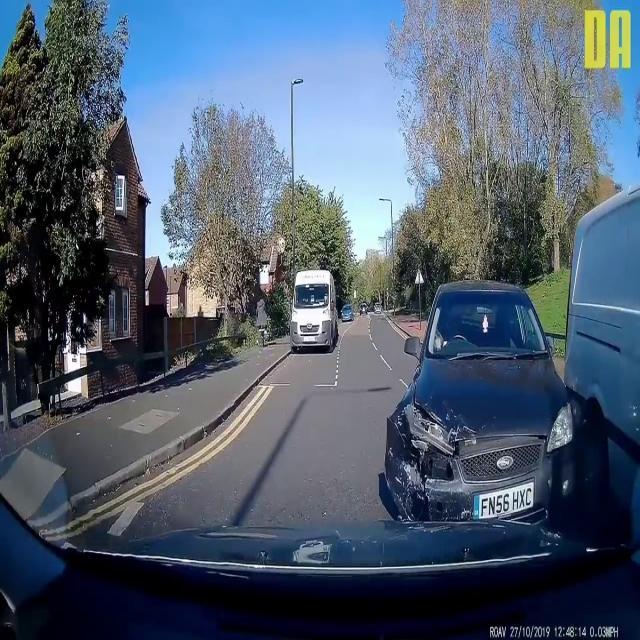multiple_accident: (375, 273, 635, 565)
